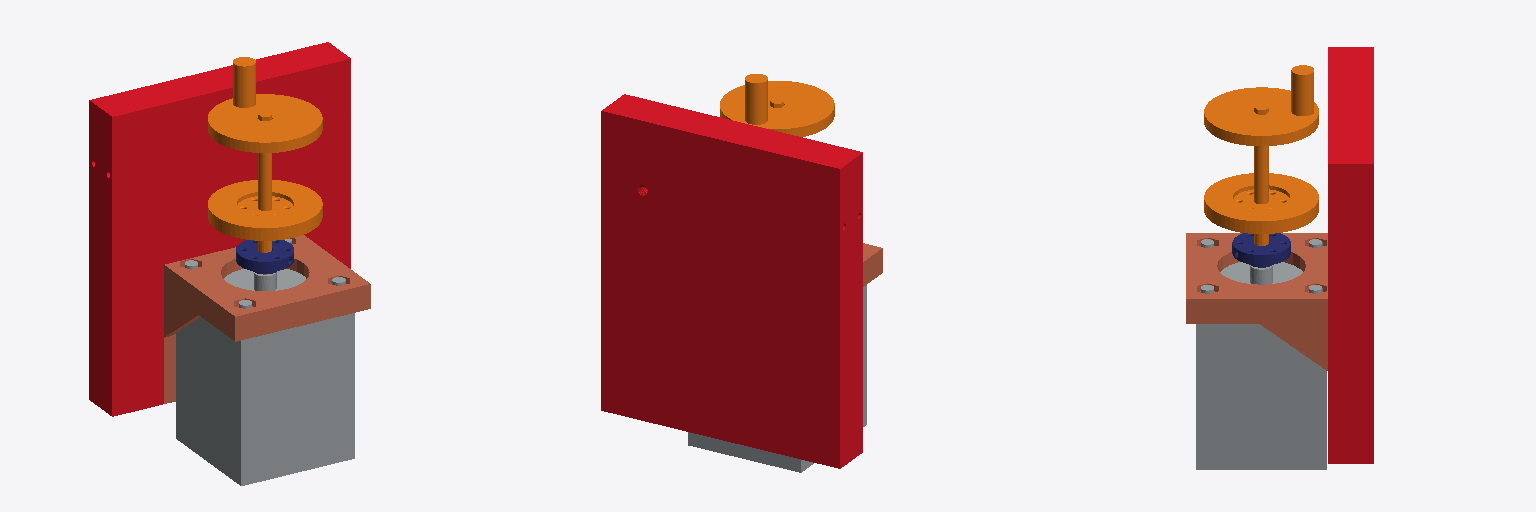
Rendered from winch.obj.
3 renders of one model, left to right at view 1: azimuth 30°, elevation 25°; view 2: azimuth 150°, elevation 25°; view 3: azimuth 270°, elevation 25°, orthographic.
Visible parts, largest first — view 1: obj_0; view 2: obj_0; view 3: obj_0.
Part boxes in pixels (x1,y1,x2,y2): obj_0: (89,42,370,485); obj_0: (601,74,882,472); obj_0: (1186,47,1373,469).
Size of the model in its own units: 120 by 178 by 82.